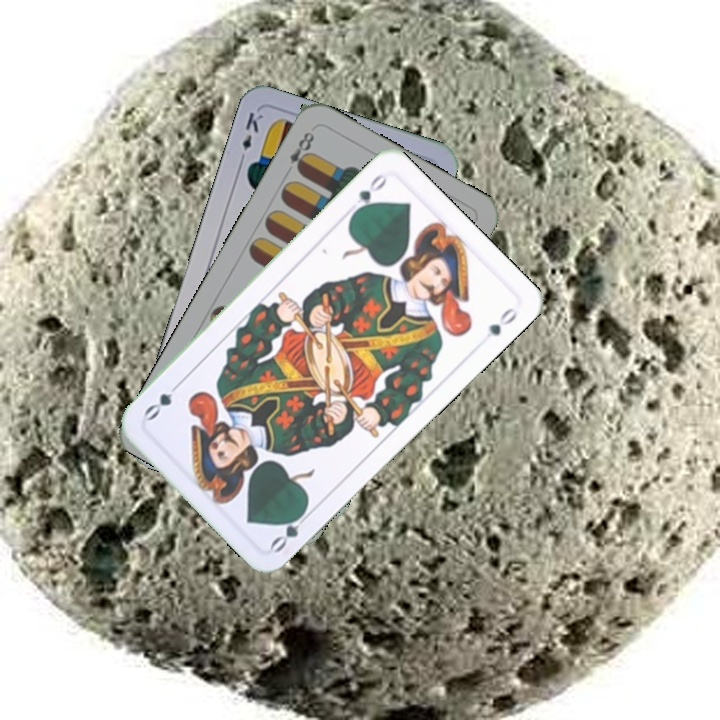E8: (281, 127, 317, 178)
EK: (235, 108, 266, 166)
GO: (266, 504, 315, 555), (347, 170, 390, 219)
